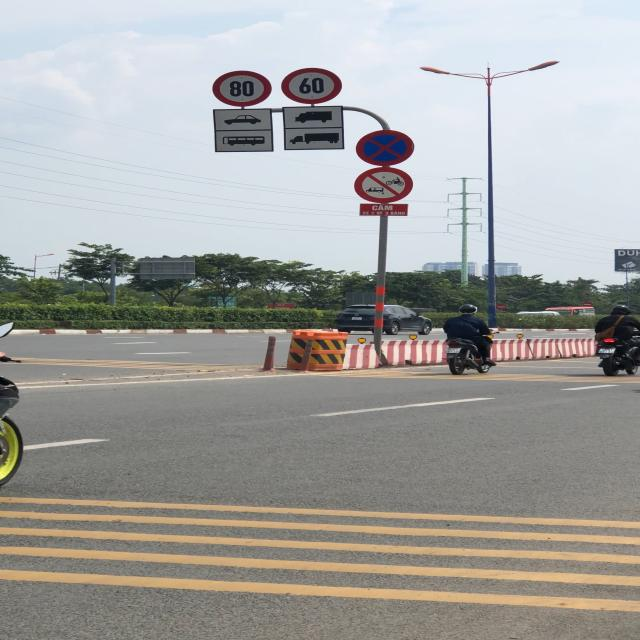Bien bao cam dung xe va do xe: (352, 128, 419, 168)
Bien bao toc do toi da cho phep: (278, 67, 343, 106), (210, 70, 274, 107)
